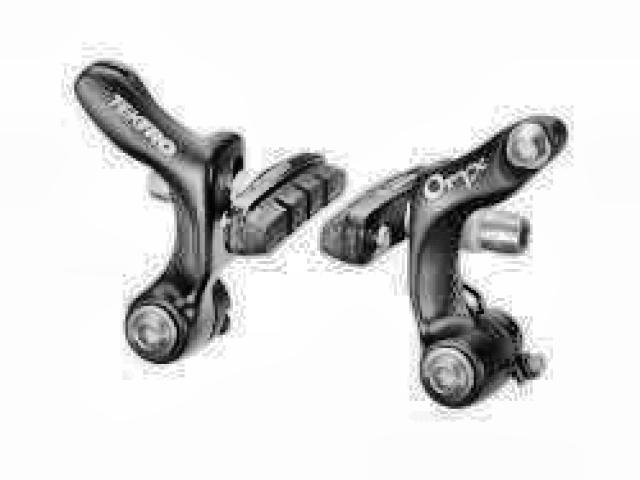rim_brake: (73, 56, 570, 407)
